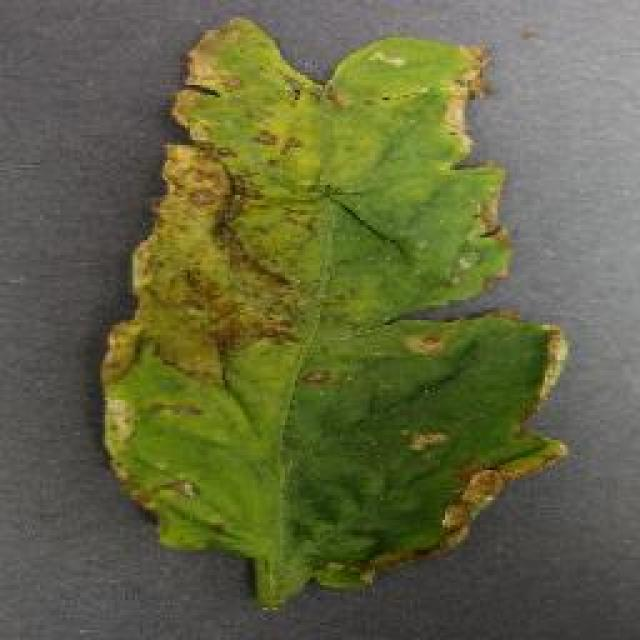bacterial spot: (92, 10, 573, 604)
